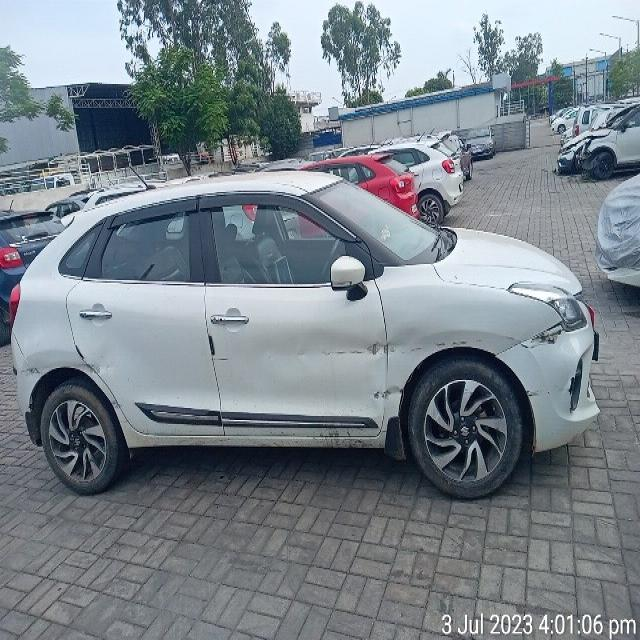damage: (292, 339, 398, 361), (515, 325, 564, 350), (404, 338, 472, 352), (369, 381, 401, 404), (76, 359, 116, 376), (525, 386, 554, 399), (22, 365, 44, 380), (568, 369, 576, 405), (110, 399, 125, 411), (212, 354, 230, 363)
